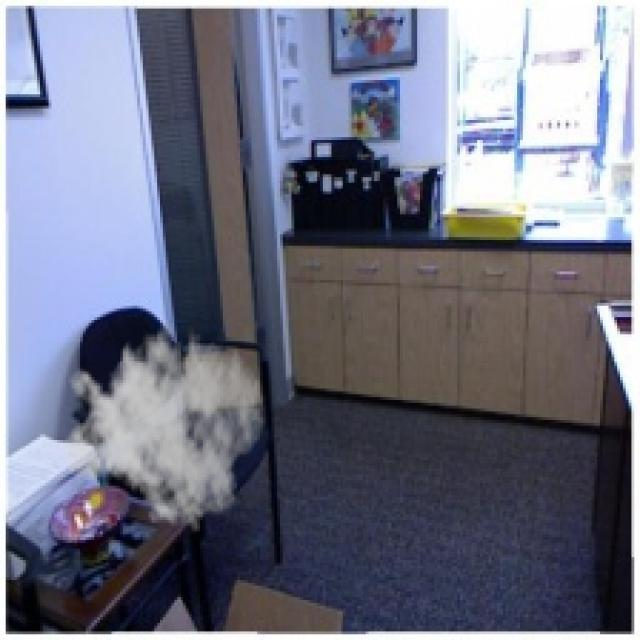Smoke: (60, 306, 266, 534)
